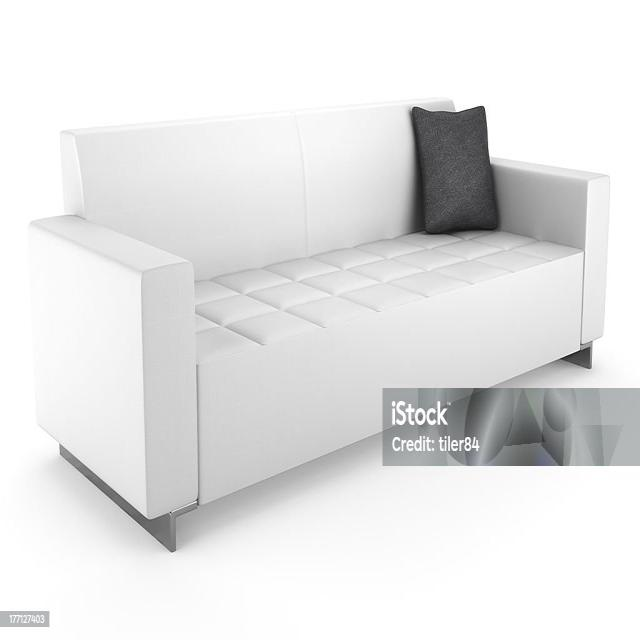back_cushion: (69, 103, 423, 277)
left_arm: (492, 159, 609, 342)
legs: (59, 445, 197, 551), (562, 343, 592, 368)
right_arm: (29, 217, 197, 530)
seat_cushion: (194, 227, 589, 503)
stallion-sofa: (0, 0, 639, 639)
